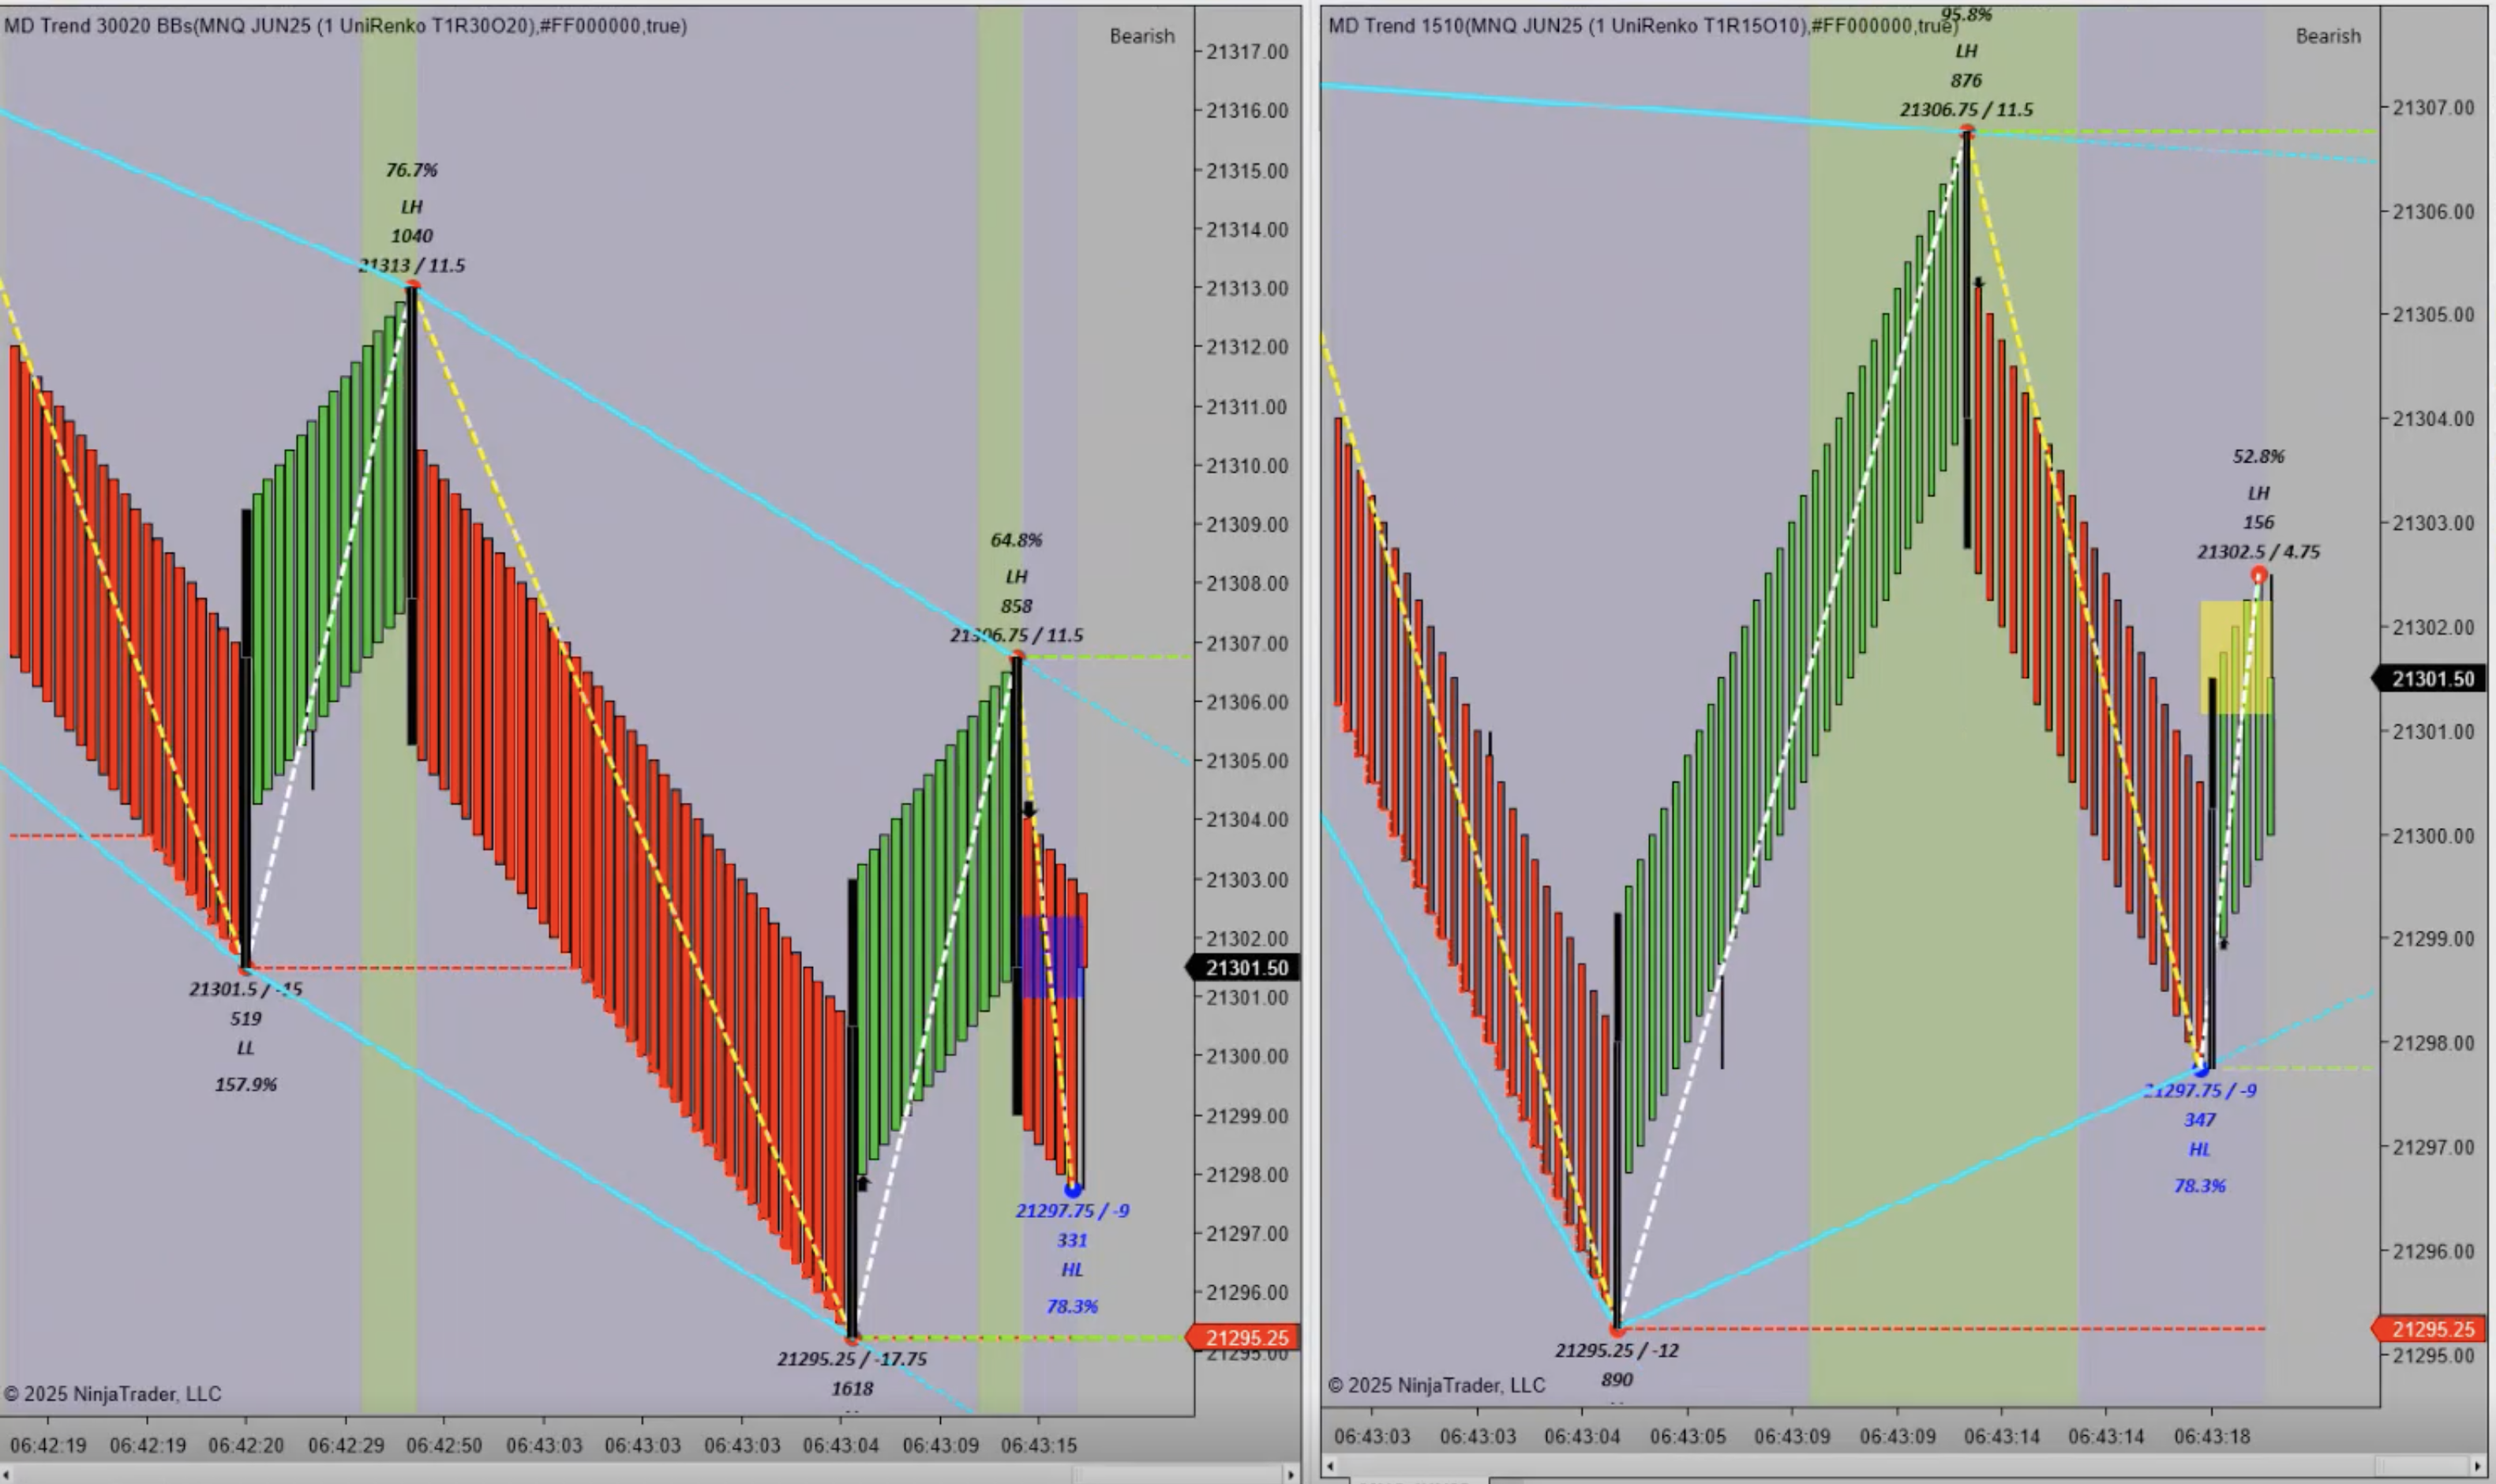candle: (237, 507, 260, 968), (1010, 654, 1030, 1127), (844, 878, 860, 1344), (1609, 913, 1627, 1321), (405, 283, 419, 756), (2206, 678, 2222, 1074), (1963, 132, 1975, 562)
